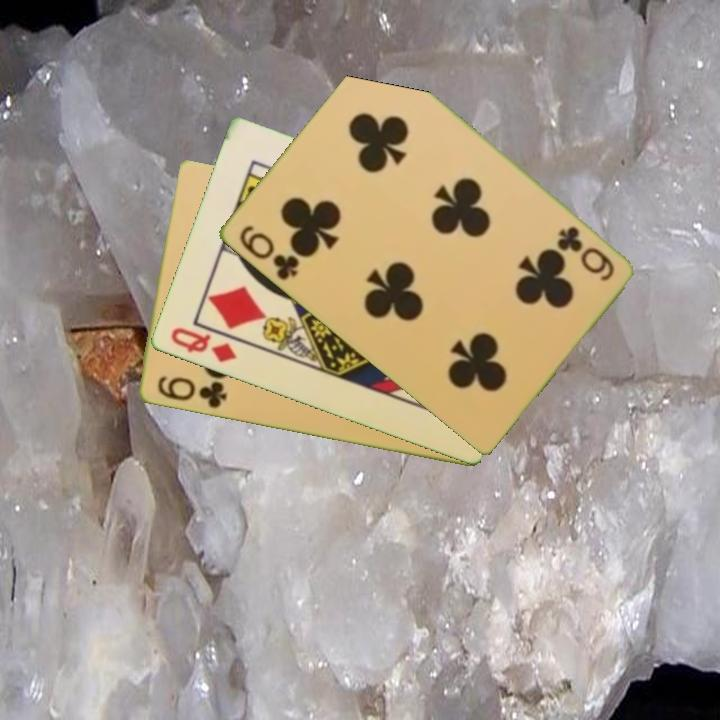6c: (235, 221, 302, 284), (553, 222, 617, 284), (153, 372, 229, 412)
Qd: (166, 324, 240, 366)
